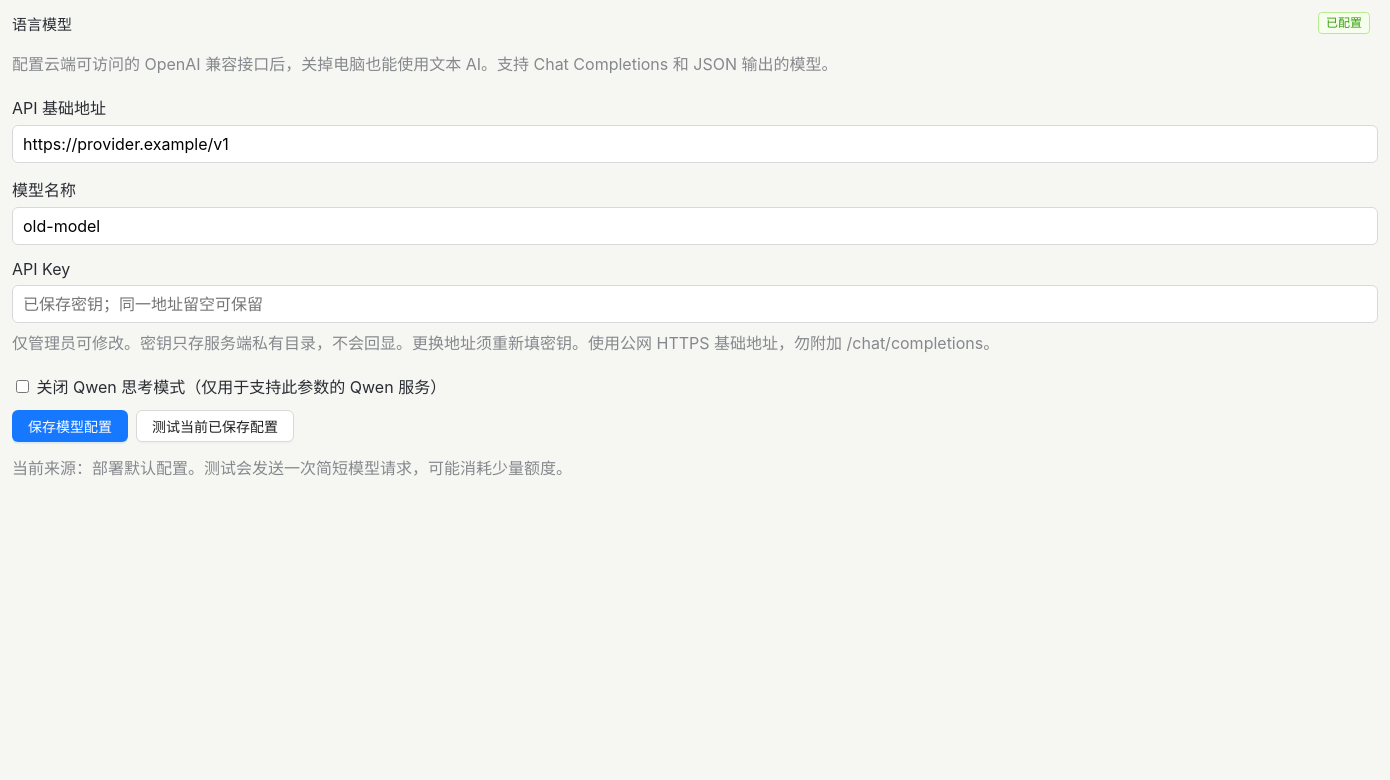
Test: 管理员可保存配置，密钥不回填；保存后清除输入并提示立即生效
The width and height of the screenshot is (1390, 780).
Expected: the field showing "https://provider.example/v1" is shown, [12,125,1378,163]
Expected: the password field labelled "API Key" is empty, [12,285,1378,323]
Step 1. Replace the text in the field labelled "模型名称" with "new-model" → (695, 226), box [12,207,1378,245]
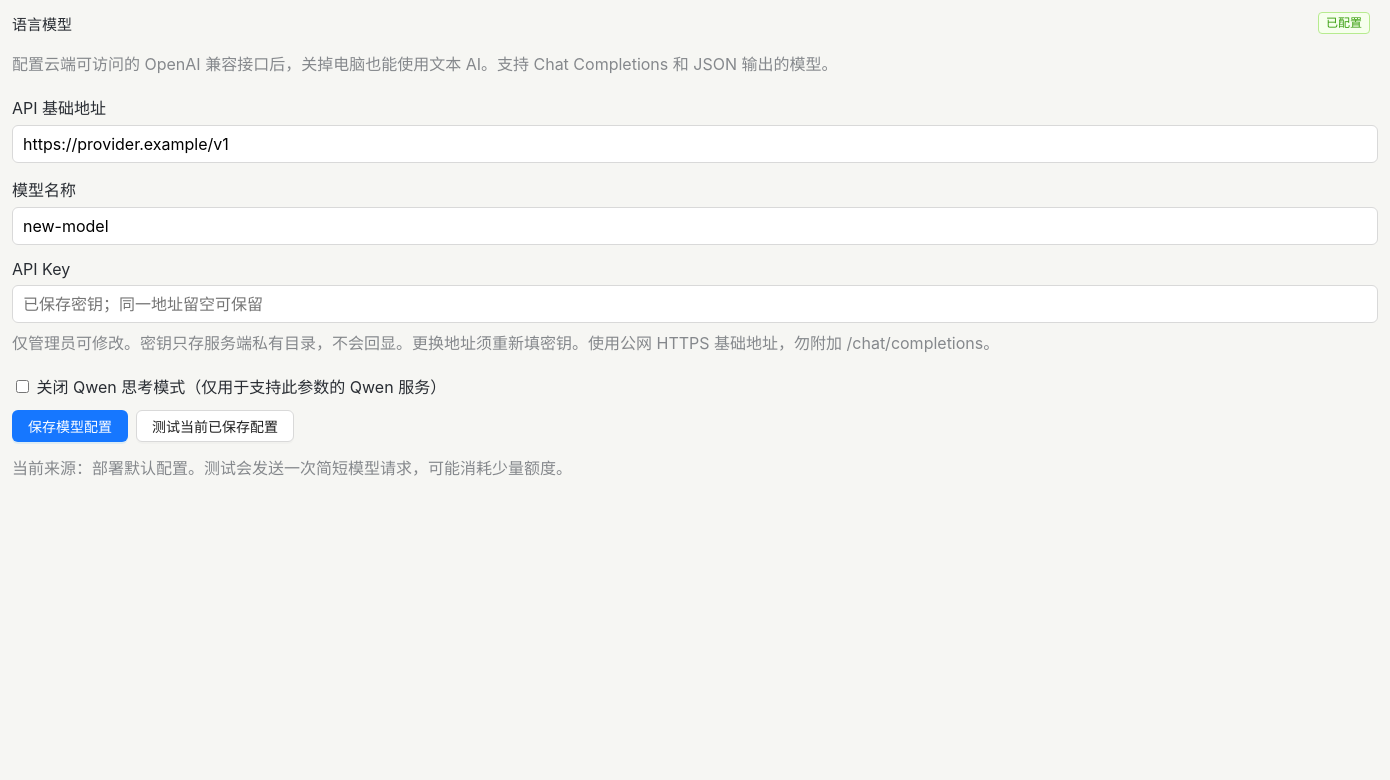
Step 2. Type "new-private-value" into the password field labelled "API Key" → (695, 304), box [12,285,1378,323]
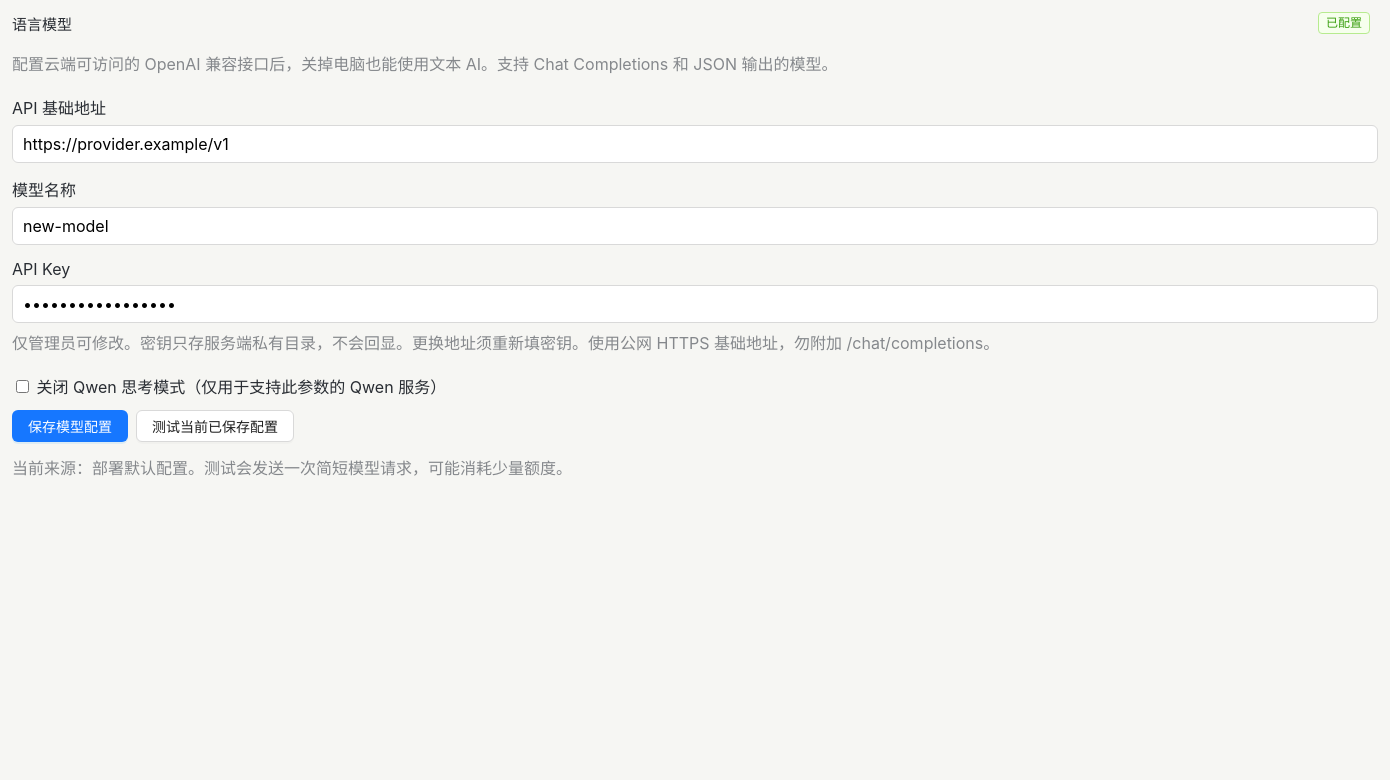
Step 3. Click the button "保存模型配置" → (70, 426), box [12,410,128,442]
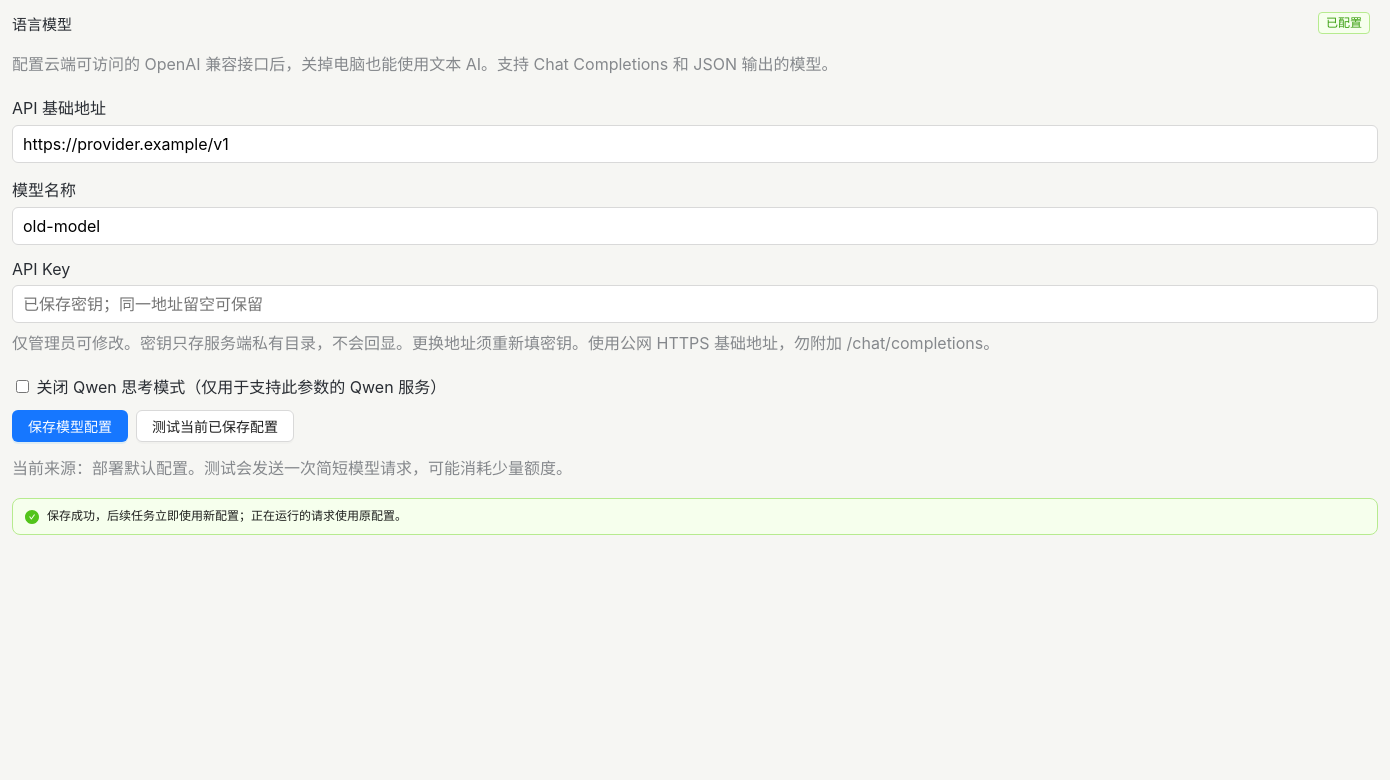
Expected: the password field labelled "API Key" is empty, [12,285,1378,323]
Expected: the text "保存成功，后续任务立即使用新配置；正在运行的请求使用原配置。" is shown, [47,508,407,523]
